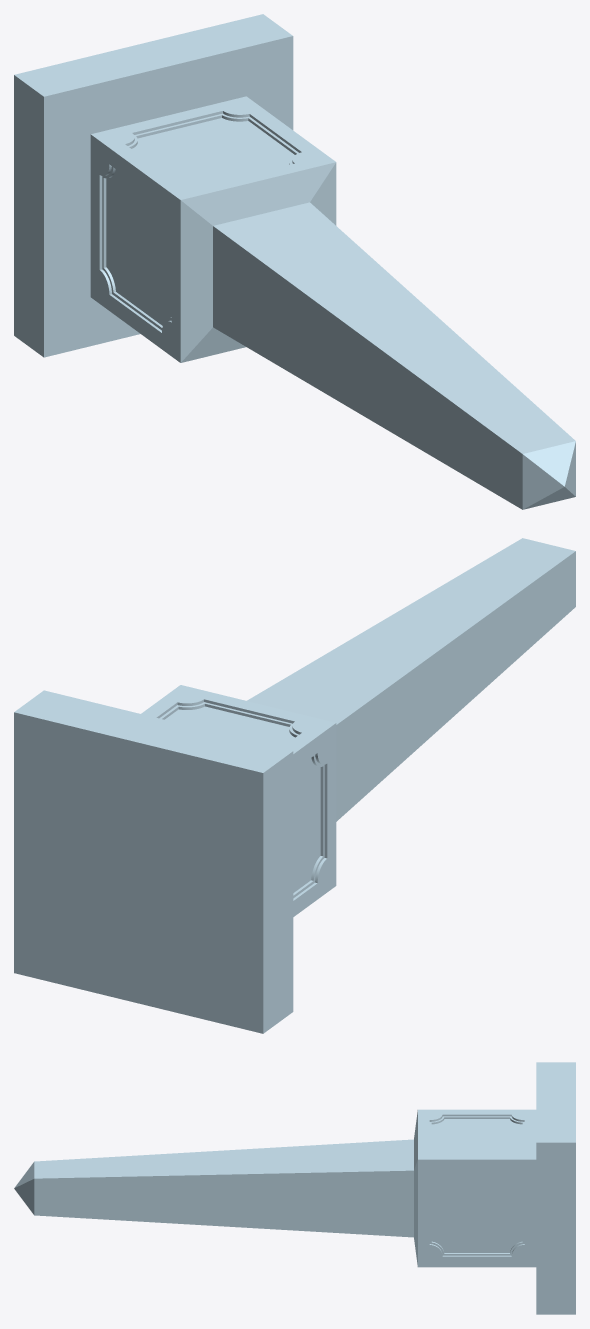
3 views of the same model, one above another, from view 1: azimuth 30°, elevation 25°; view 2: azimuth 150°, elevation 25°; view 3: azimuth 270°, elevation 25° (orthographic). The views are drawn at different scales.
Visible parts, largest first — view 1: PA-197-F_LOD0; view 2: PA-197-F_LOD0; view 3: PA-197-F_LOD0.
Boxes of the visible parts, x1,y1,x2,y2 form: PA-197-F_LOD0: [14, 14, 575, 509]; PA-197-F_LOD0: [14, 538, 575, 1033]; PA-197-F_LOD0: [14, 1062, 575, 1314].
Size of what is drawn, in the model's own units: 122 by 122 by 361.
